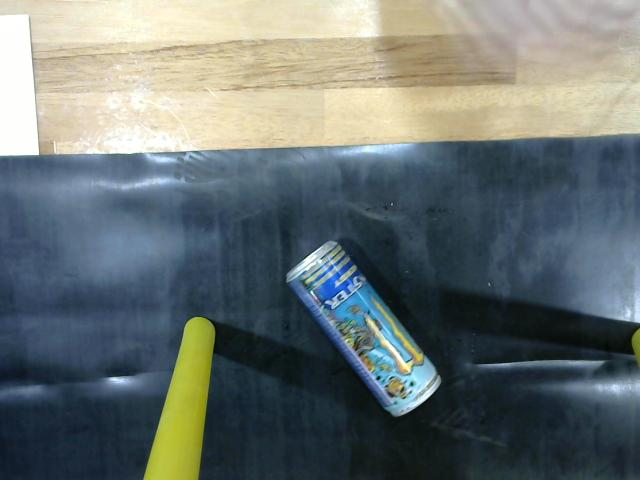can: (276, 235, 454, 427)
